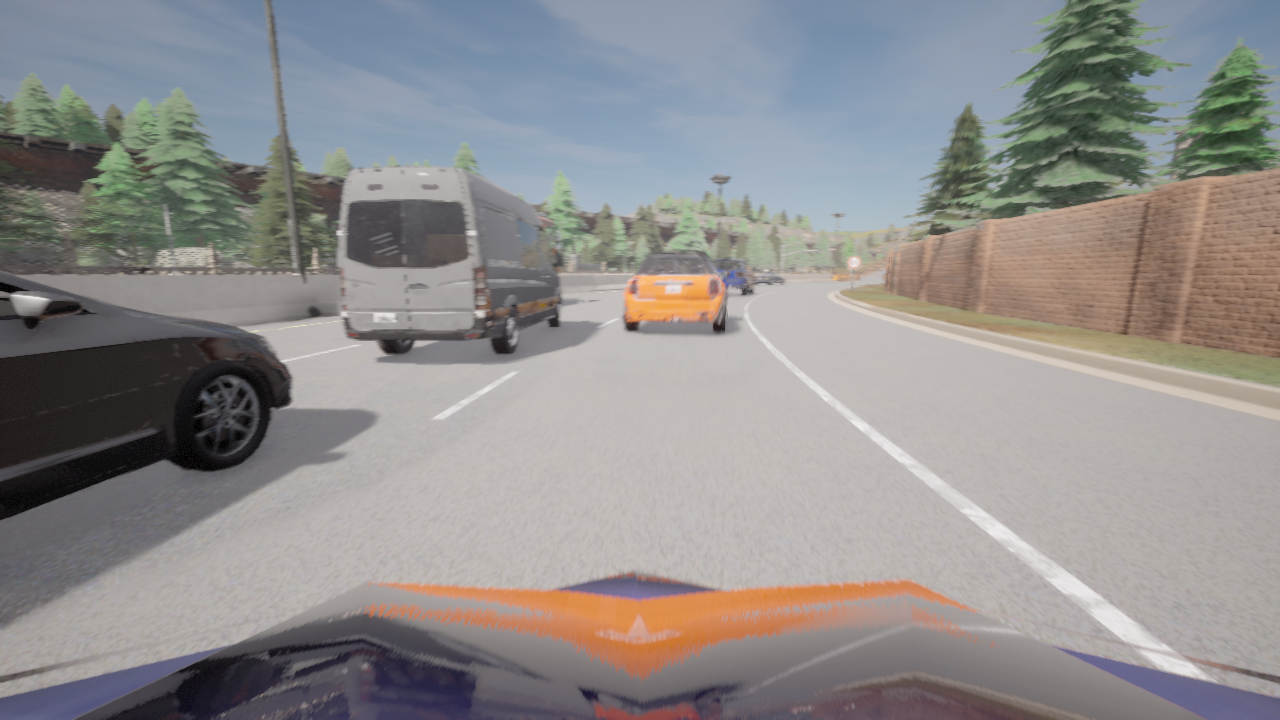cyclist: (0, 569, 1279, 719), (337, 167, 563, 354), (623, 245, 728, 332), (712, 258, 755, 295), (537, 213, 562, 271), (756, 272, 785, 285)
